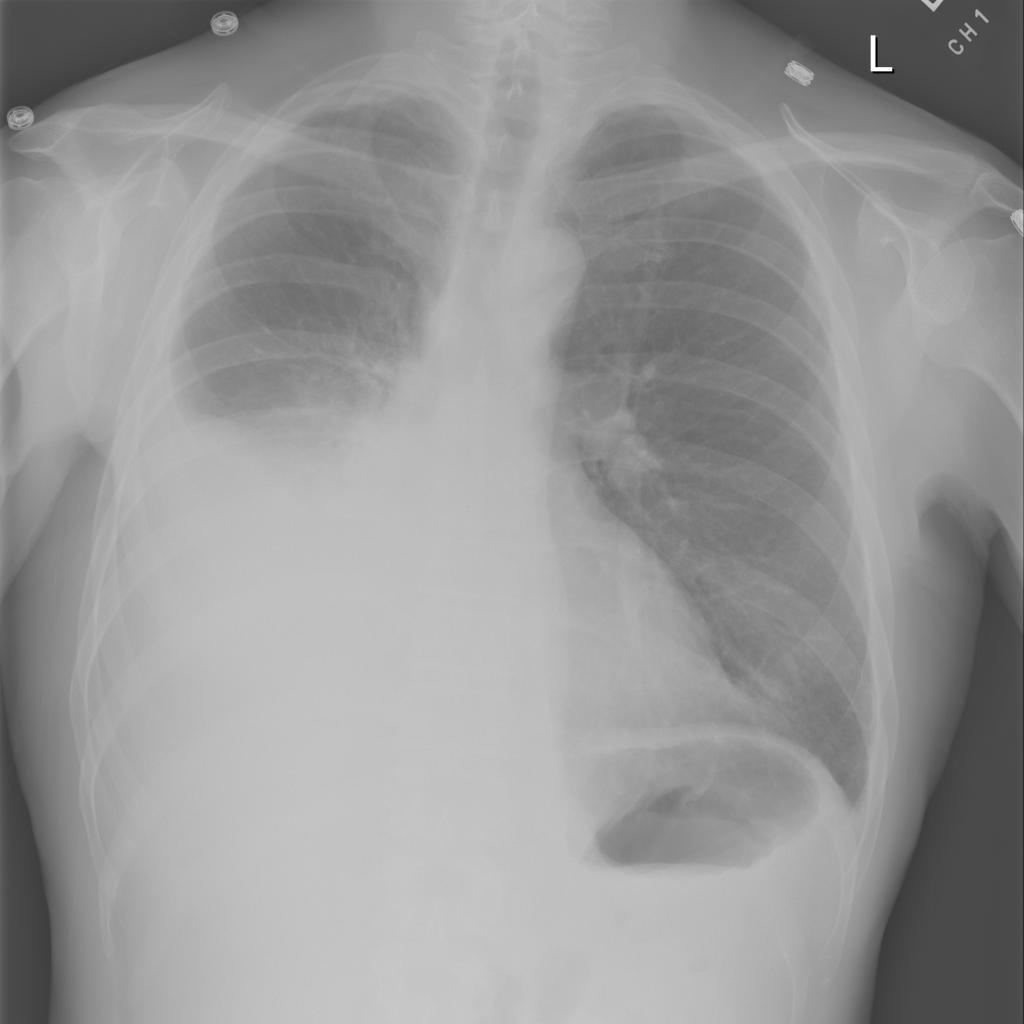Nodule: (93, 170, 107, 188), (71, 95, 86, 107)
